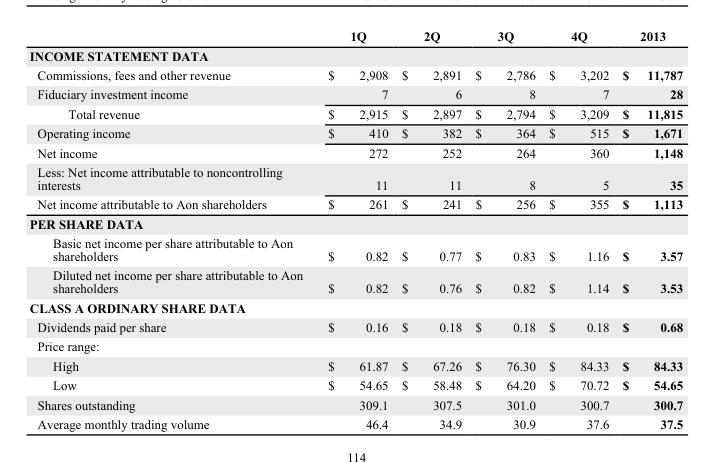table: (28, 28, 682, 430)
table column: (28, 28, 314, 430), (314, 28, 394, 430), (467, 28, 541, 430), (541, 28, 615, 430), (394, 28, 467, 430), (615, 28, 682, 430)
table column header: (28, 28, 682, 45)
table projected row header: (28, 45, 682, 64), (28, 213, 682, 232), (28, 297, 682, 316), (28, 336, 682, 355)
table row: (28, 161, 682, 194), (28, 232, 682, 265), (28, 265, 682, 297), (28, 64, 682, 84), (28, 103, 682, 123), (28, 316, 682, 336), (28, 355, 682, 375), (28, 45, 682, 64), (28, 84, 682, 103), (28, 123, 682, 142), (28, 142, 682, 161), (28, 194, 682, 213), (28, 213, 682, 232), (28, 297, 682, 316), (28, 336, 682, 355), (28, 375, 682, 394), (28, 394, 682, 413), (28, 28, 682, 45), (28, 413, 682, 430)
